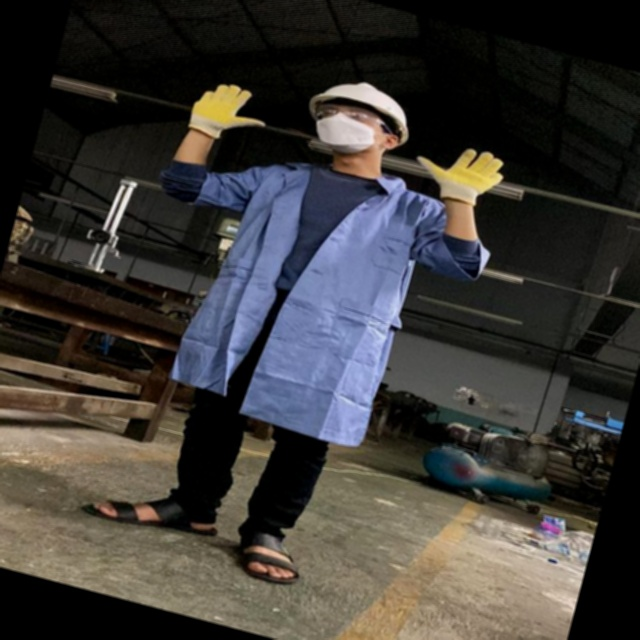gloves: (134, 86, 231, 209), (372, 107, 490, 201)
helmet: (256, 78, 354, 120)
